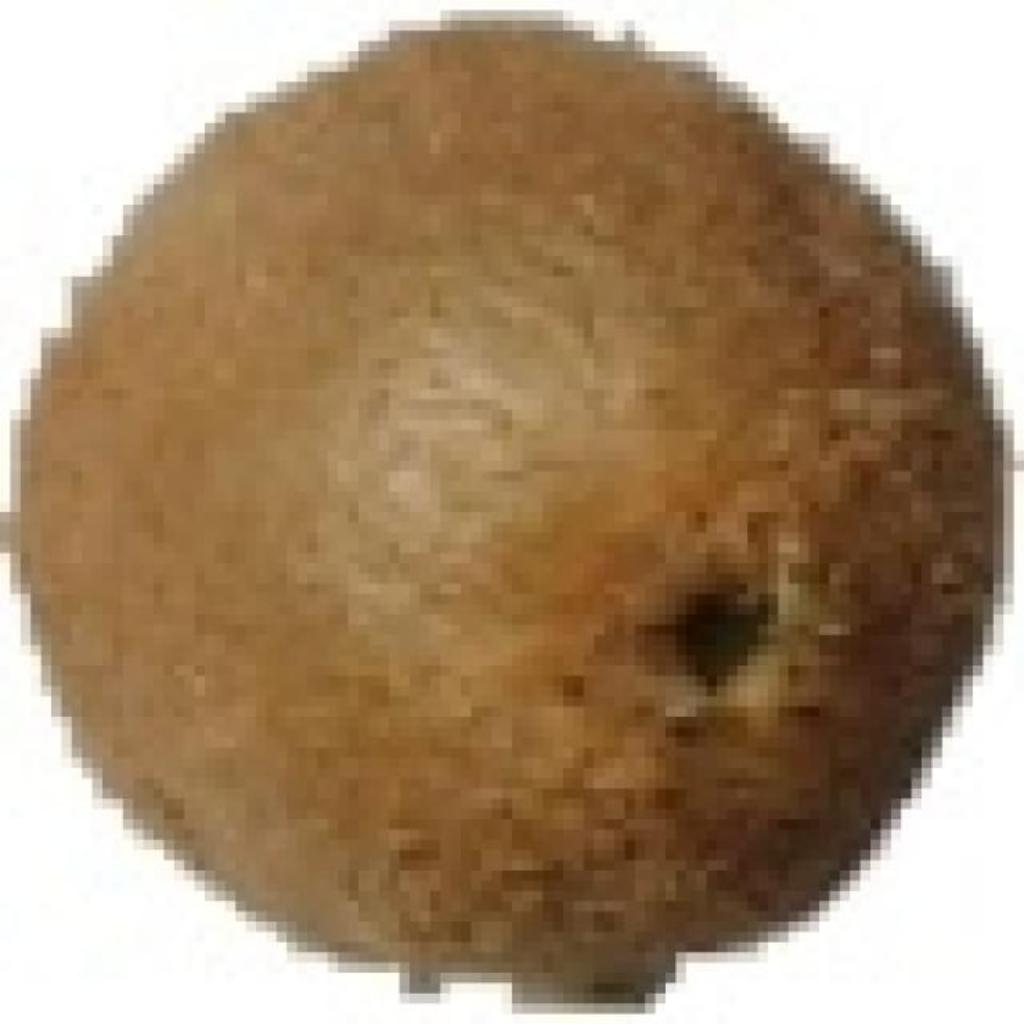kiwi: (10, 10, 983, 983)
